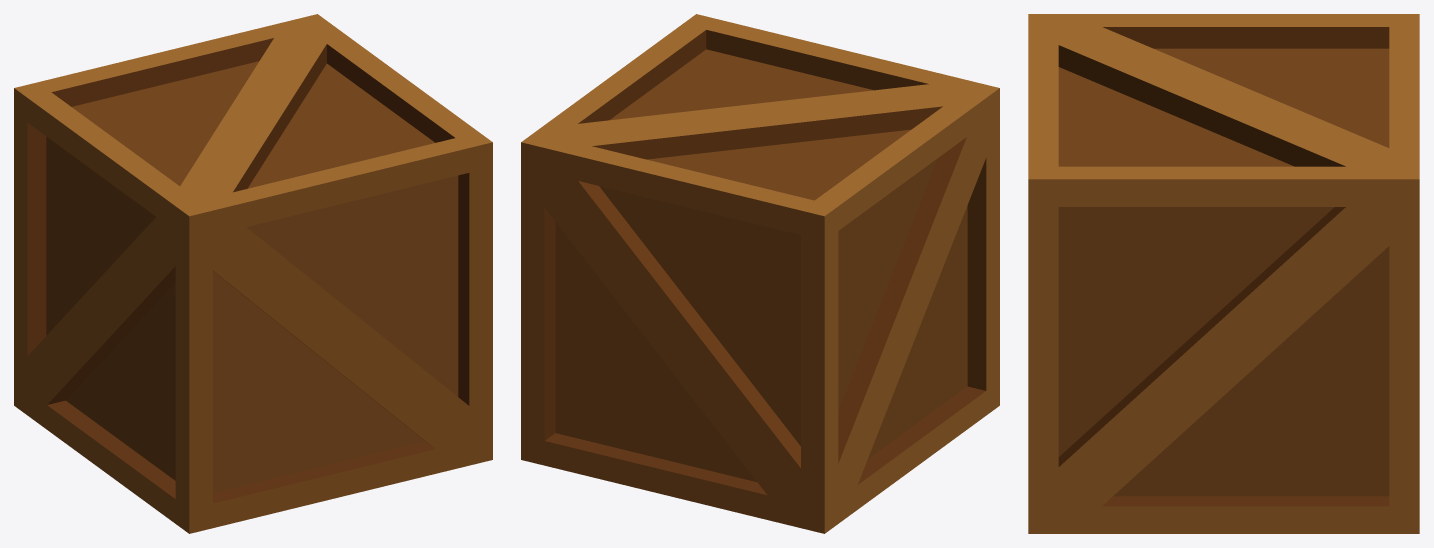
File: Caixa_padrao.fbx
The picture shows the model from 3 angles, left to right: view 1: azimuth 30°, elevation 25°; view 2: azimuth 150°, elevation 25°; view 3: azimuth 270°, elevation 25°; orthographic projection. The views are drawn at different scales.
Visible parts, largest first — view 1: Caixa_padrao; view 2: Caixa_padrao; view 3: Caixa_padrao.
Boxes of the visible parts, x1,y1,x2,y2 form: Caixa_padrao: (14,14,492,533); Caixa_padrao: (521,14,999,533); Caixa_padrao: (1028,14,1419,533).
Bounding box in the file's own units: 2 × 2 × 2.
